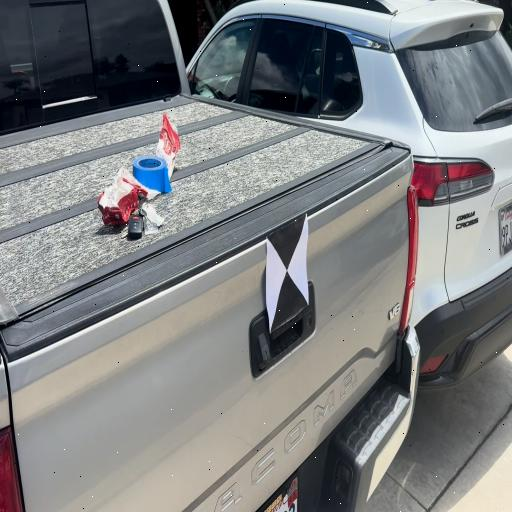target: (267, 214, 308, 332)
